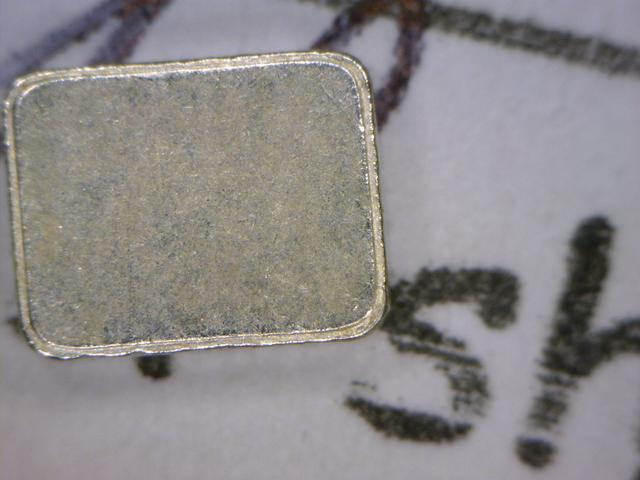nok: (1, 48, 398, 363)
